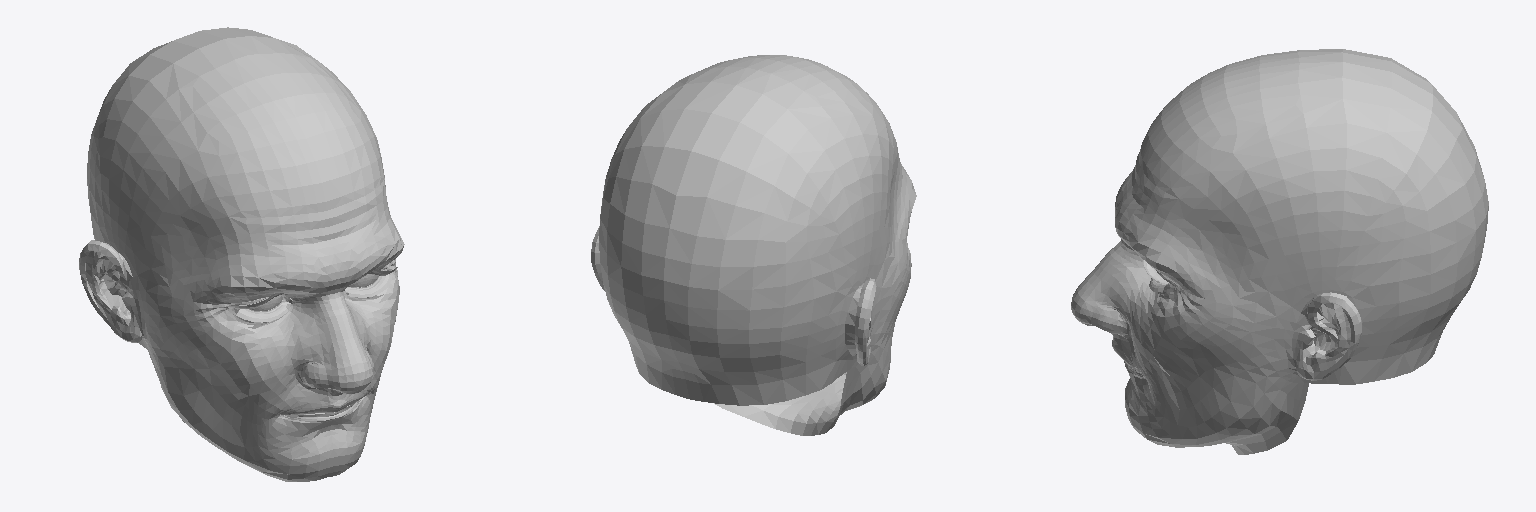
File: Old.obj
3 views of the same model, side by side, from view 1: azimuth 30°, elevation 25°; view 2: azimuth 150°, elevation 25°; view 3: azimuth 270°, elevation 25° (orthographic).
Visible parts, largest first — view 1: Genesis2Male; view 2: Genesis2Male; view 3: Genesis2Male.
Part boxes in pixels (x1,y1,x2,y2): Genesis2Male: (79, 27, 404, 481); Genesis2Male: (591, 55, 916, 435); Genesis2Male: (1071, 49, 1488, 454).
Size of the model in its own units: 18.04 by 24.02 by 23.46.